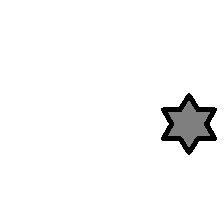star: (161, 93, 217, 156)
